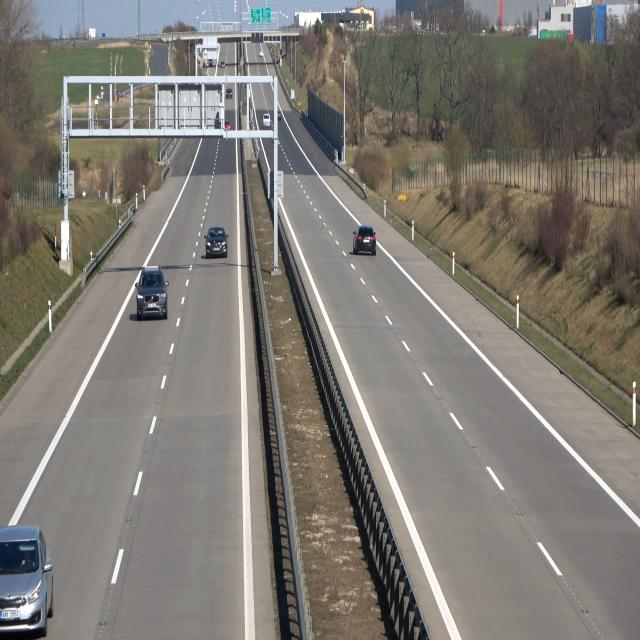Car: (0, 523, 57, 640), (134, 260, 172, 325), (204, 226, 229, 260), (352, 224, 377, 256), (262, 112, 271, 129), (226, 88, 233, 100)
